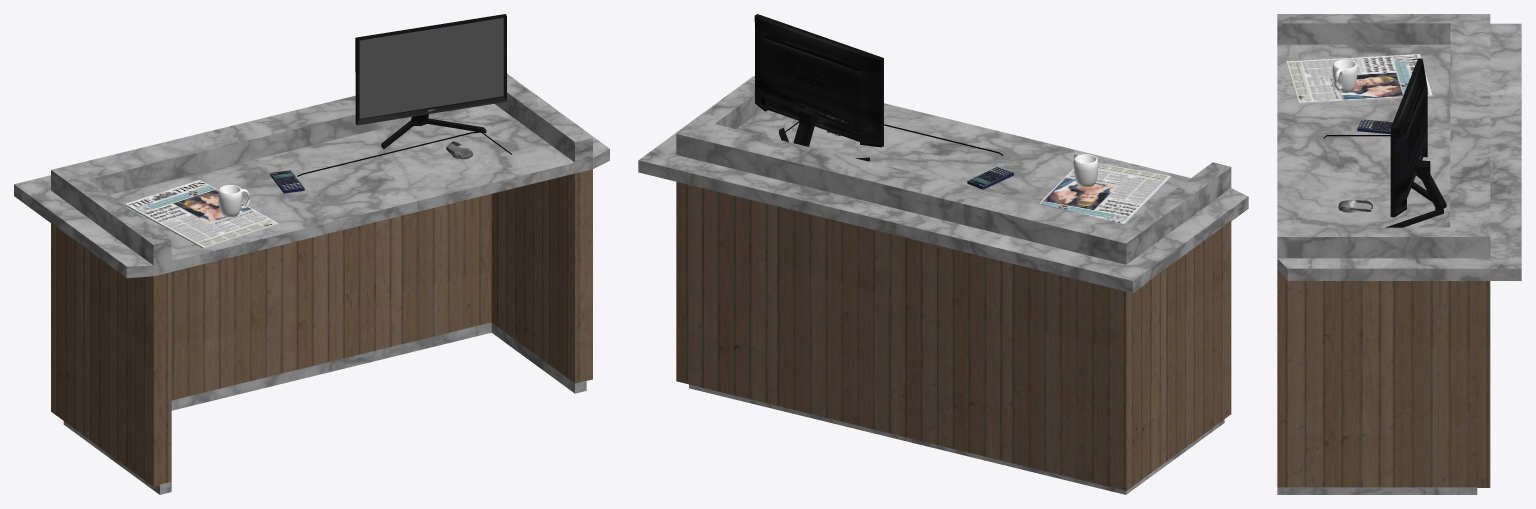
Rendered from desk resp.fbx.
The picture shows the model from 3 angles, left to right: view 1: azimuth 30°, elevation 25°; view 2: azimuth 150°, elevation 25°; view 3: azimuth 270°, elevation 25°; orthographic projection. The views are drawn at different scales.
Visible parts, largest first — view 1: Cube.009, Cube.003, Plane.041, Cylinder.017; view 2: Cube.009, Cube.003, Plane.041, Cylinder.017; view 3: Cube.009, Cube.003, Plane.041, Cylinder.017, Cube.008, Plane.040.
Part boxes in pixels (box(x1,y1,x2,y2)): Cube.009: box(14, 73, 609, 494); Cube.003: box(355, 14, 506, 148); Plane.041: box(125, 180, 278, 248); Cylinder.017: box(218, 185, 250, 217); Cube.009: box(638, 76, 1248, 494); Cube.003: box(754, 14, 883, 161); Plane.041: box(1040, 163, 1170, 223); Cylinder.017: box(1072, 153, 1098, 187); Cube.009: box(1277, 14, 1521, 494); Cube.003: box(1386, 58, 1446, 227); Plane.041: box(1286, 54, 1432, 103); Cylinder.017: box(1332, 59, 1357, 92); Cube.008: box(1357, 119, 1392, 134); Plane.040: box(1338, 200, 1372, 212).
Size of the model in its own units: 196 by 132 by 82.62.
Materials: 7 (5 with a texture image).
